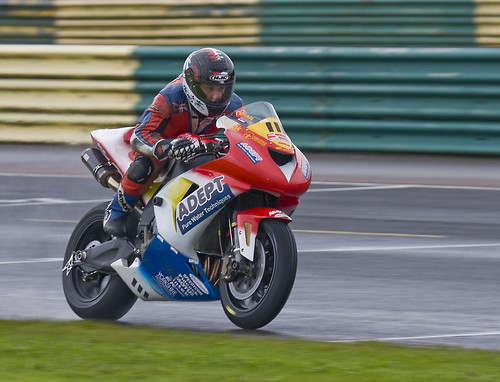helmet: (174, 38, 239, 116)
